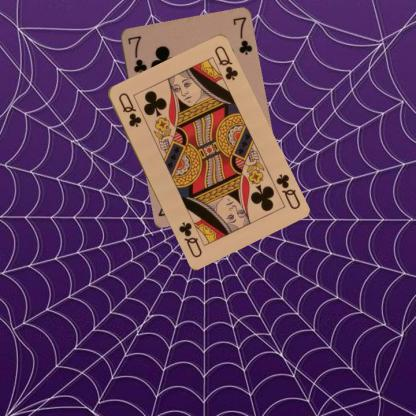7c: (125, 33, 148, 75)
Qc: (272, 171, 302, 211), (115, 90, 143, 128)
